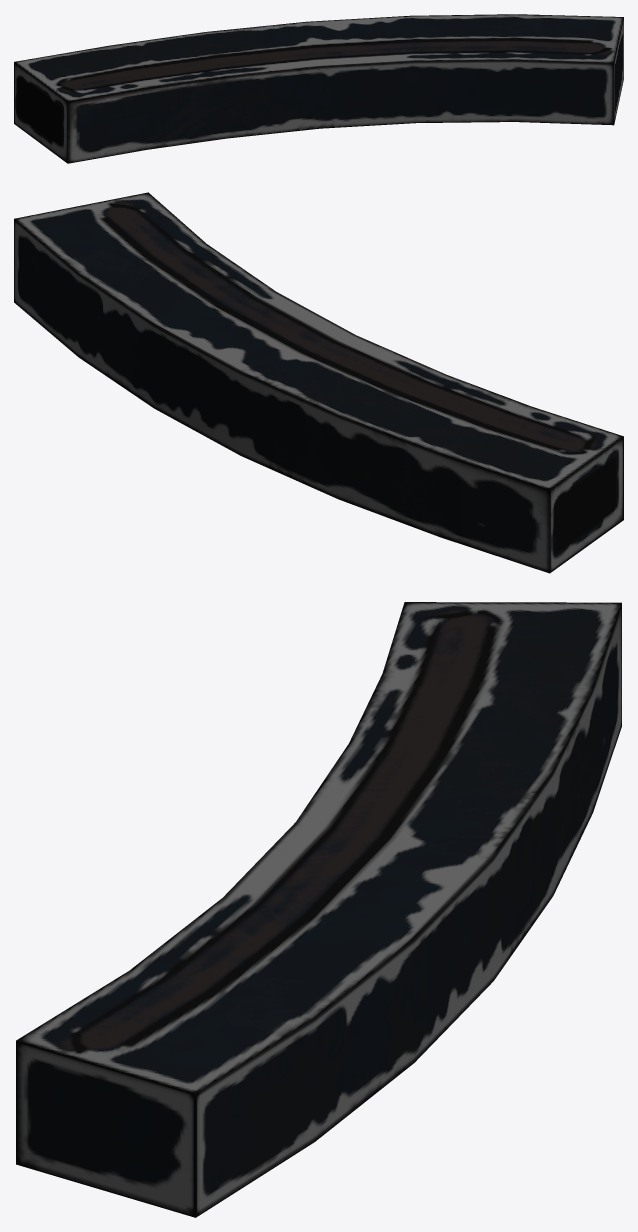
File: MP5-SD_Mag.fbx
3 renders of one model, top to bottom at view 1: azimuth 30°, elevation 25°; view 2: azimuth 150°, elevation 25°; view 3: azimuth 270°, elevation 25°, orthographic. The views are drawn at different scales.
Parts seen in each view (by area): view 1: MP5-SD_Mag; view 2: MP5-SD_Mag; view 3: MP5-SD_Mag.
Part boxes in pixels (left/top/right/bottom): MP5-SD_Mag: left=14, top=14, right=623, bottom=163; MP5-SD_Mag: left=14, top=192, right=623, bottom=573; MP5-SD_Mag: left=16, top=602, right=621, bottom=1217.
Bounding box in the file's own units: 181 × 21.26 × 94.23.
